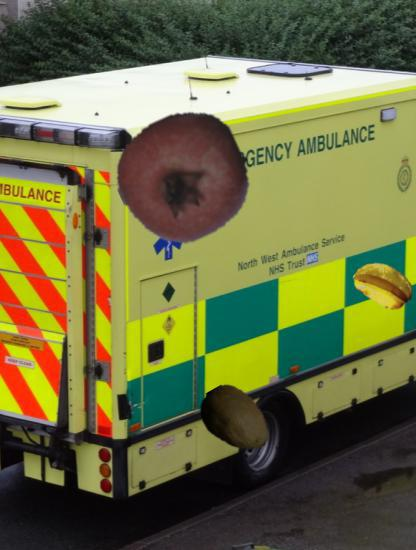Carambula: (354, 255, 414, 315)
Papaya: (197, 383, 271, 457)
Pomegranate: (118, 112, 250, 244)
